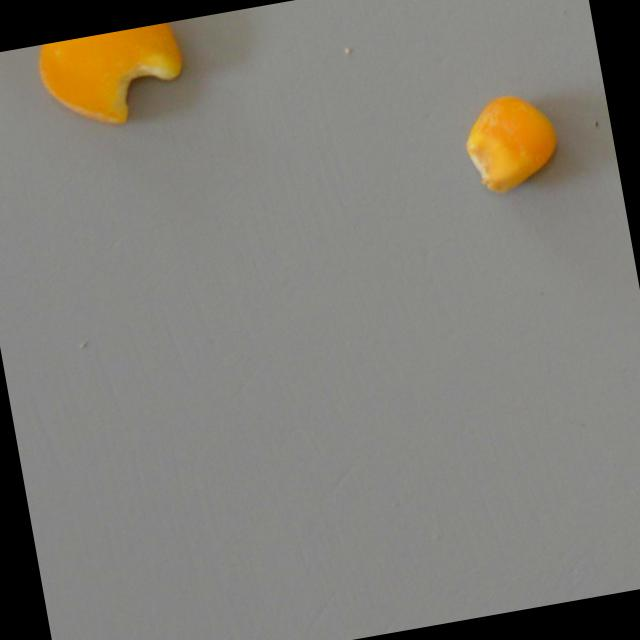no_canjicado: (31, 20, 198, 144)
no_desgerminado: (459, 77, 569, 199)
